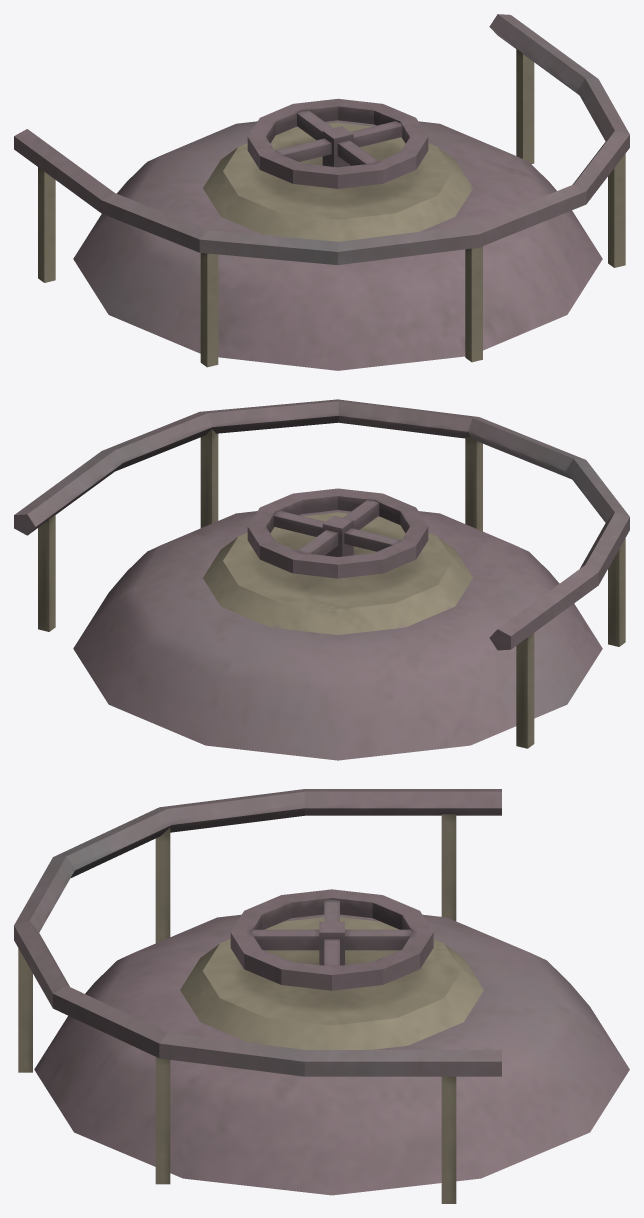
File: TileSet11_Hood.fbx
3 renders of one model, top to bottom at view 1: azimuth 30°, elevation 25°; view 2: azimuth 150°, elevation 25°; view 3: azimuth 270°, elevation 25°, orthographic. The views are drawn at different scales.
Parts seen in each view (by area): view 1: Interior_Navio:polySurface109; view 2: Interior_Navio:polySurface109; view 3: Interior_Navio:polySurface109.
Boxes of the visible parts, x1,y1,x2,y2 form: Interior_Navio:polySurface109: [14, 14, 629, 370]; Interior_Navio:polySurface109: [14, 399, 629, 760]; Interior_Navio:polySurface109: [14, 789, 629, 1203].
Bounding box in the file's own units: 2.64 × 0.6705 × 2.52.
1 material, 1 textured.
